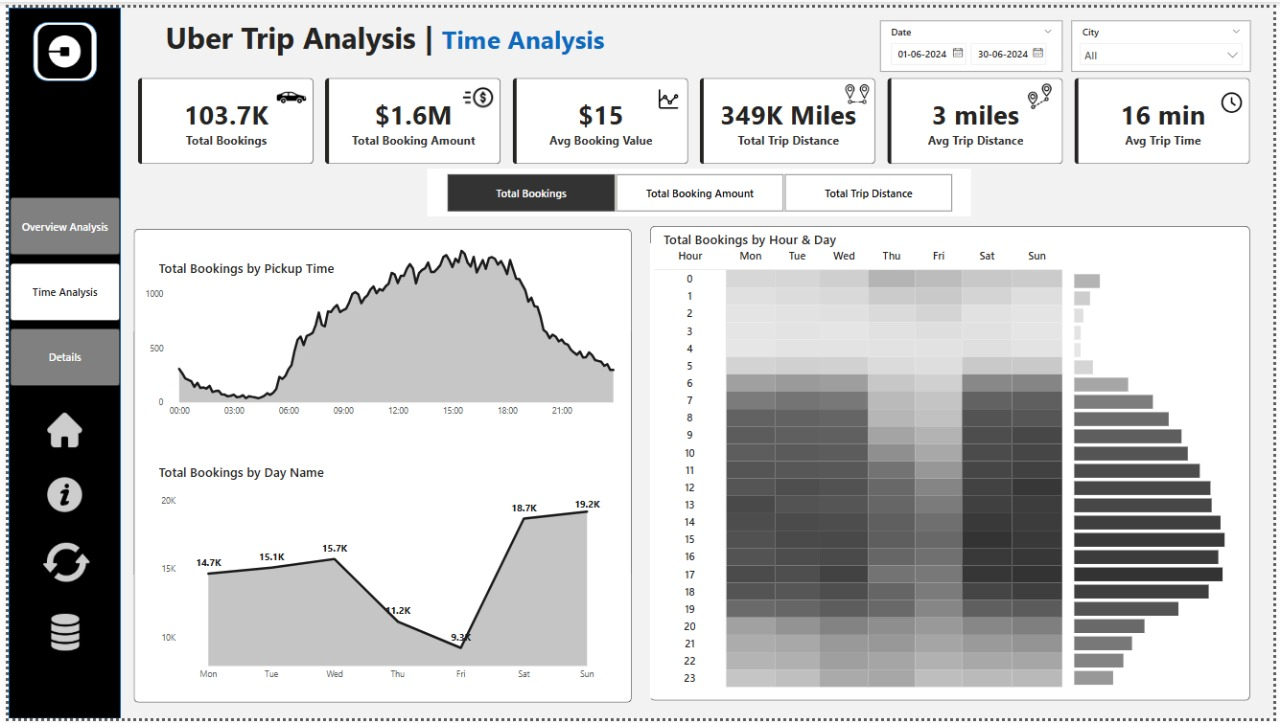

What the dashboard file says about the page in this screenshot:
{"tool":"powerbi","page":{"name":"Time Analysis","canvas":[1600,900],"ordinal":1},"visuals":[{"type":"shape","box":[157.9,279.3,630,600],"z":0},{"type":"shape","box":[0,0,141.7,900.7],"z":1000},{"type":"textbox","box":[139.7,8.1,672,81],"z":2000},{"type":"cardVisual","fields":{"Data":["Trip Details.Total Bookings","Trip Details.Total Booking Amount","Trip Details.Avg Booking Amount","Trip Details.Total Trip Distance","Trip Details.Avg Trip Distance","Trip Details.Avg Trip Time"]},"box":[157.9,83,1418.8,119.4],"z":3000},{"type":"image","box":[568.8,87,48.6,52.6],"z":4000},{"type":"image","box":[1030.2,89.1,87,40.5],"z":5000},{"type":"image","box":[1261,91.1,89.1,42.5],"z":6000},{"type":"image","box":[1522.1,101.2,48.6,36.4],"z":7000},{"type":"image","box":[811.6,97.2,46.6,38.5],"z":8000},{"type":"image","box":[327.9,87,60.7,52.6],"z":9000},{"type":"slicer","fields":{"Values":["Dynamic Measure.Dynamic Measure"]},"box":[530.3,204.4,688.2,60.7],"z":10000},{"type":"slicer","fields":{"Values":["Calender Table.Date"]},"box":[1103.1,16.2,230.7,64.8],"z":11000},{"type":"slicer","fields":{"Values":["Location Table.City"]},"box":[1344,16.2,226.7,64.8],"z":12000},{"type":"areaChart","fields":{"Y":["Trip Details.Total Bookings"],"Category":["Trip Details.Pickup Hour(HH MM SS) (bins)"]},"box":[168,293.5,615.3,234.8],"z":13000},{"type":"cardVisual","fields":{"Data":["Trip Details.Title for by pickup Time"]},"box":[172,293.5,309.7,54.6],"z":14000},{"type":"areaChart","fields":{"Y":["Trip Details.Total Bookings"],"Category":["Calender Table.Day Name"]},"box":[188.2,609.2,580.9,251],"z":15000},{"type":"cardVisual","fields":{"Data":["Trip Details.Title for by Day Name"]},"box":[172,550.5,309.7,54.6],"z":16000},{"type":"shape","box":[811.6,277.3,759,601.1],"z":17000},{"type":"pivotTable","fields":{"Values":["Trip Details.Total Bookings"],"Rows":["Trip Details.Pickup Hour"],"Columns":["Calender Table.Day Name"]},"box":[811.6,297.5,558.6,576.9],"z":18000},{"type":"barChart","fields":{"Y":["Trip Details.Total Bookings"],"Category":["Trip Details.Pickup Hour"]},"box":[1341.9,323.8,202.4,560.7],"z":19000},{"type":"cardVisual","fields":{"Data":["Trip Details.Title for by Hour & Day"]},"box":[811.6,257.1,305.6,56.7],"z":20000},{"type":"pageNavigator","box":[2,240.9,139.7,240.9],"z":21000},{"type":"shape","box":[30.4,18.2,81,74.9],"z":21500},{"type":"image","box":[30.4,18.2,81,72.9],"z":22000},{"type":"image","box":[38.5,508,64.8,54.6],"z":22001},{"type":"image","box":[38.5,589,64.8,54.6],"z":22002},{"type":"image","box":[36.4,667.9,72.9,68.8],"z":22003},{"type":"image","box":[30.4,763.1,81,56.7],"z":22004}]}

Visuals, with their boxes on the page's 1600x900 design canvas (x1, y1, x2, y2). These are canvas units, not pixel positions in the 1280x723 screenshot, which may show the page scaled, cropped or inside an application window:
shape: (left=158, top=279, right=788, bottom=879)
shape: (left=0, top=0, right=142, bottom=901)
textbox: (left=140, top=8, right=812, bottom=89)
cardVisual - Trip Details.Total Bookings x Trip Details.Total Booking Amount: (left=158, top=83, right=1577, bottom=202)
image: (left=569, top=87, right=617, bottom=140)
image: (left=1030, top=89, right=1117, bottom=130)
image: (left=1261, top=91, right=1350, bottom=134)
image: (left=1522, top=101, right=1571, bottom=138)
image: (left=812, top=97, right=858, bottom=136)
image: (left=328, top=87, right=389, bottom=140)
slicer - Dynamic Measure.Dynamic Measure: (left=530, top=204, right=1218, bottom=265)
slicer - Calender Table.Date: (left=1103, top=16, right=1334, bottom=81)
slicer - Location Table.City: (left=1344, top=16, right=1571, bottom=81)
areaChart - Trip Details.Total Bookings x Trip Details.Pickup Hour(HH MM SS) (bins): (left=168, top=294, right=783, bottom=528)
cardVisual - Trip Details.Title for by pickup Time: (left=172, top=294, right=482, bottom=348)
areaChart - Trip Details.Total Bookings x Calender Table.Day Name: (left=188, top=609, right=769, bottom=860)
cardVisual - Trip Details.Title for by Day Name: (left=172, top=550, right=482, bottom=605)
shape: (left=812, top=277, right=1571, bottom=878)
pivotTable - Trip Details.Total Bookings x Trip Details.Pickup Hour: (left=812, top=298, right=1370, bottom=874)
barChart - Trip Details.Total Bookings x Trip Details.Pickup Hour: (left=1342, top=324, right=1544, bottom=884)
cardVisual - Trip Details.Title for by Hour & Day: (left=812, top=257, right=1117, bottom=314)
pageNavigator: (left=2, top=241, right=142, bottom=482)
shape: (left=30, top=18, right=111, bottom=93)
image: (left=30, top=18, right=111, bottom=91)
image: (left=38, top=508, right=103, bottom=563)
image: (left=38, top=589, right=103, bottom=644)
image: (left=36, top=668, right=109, bottom=737)
image: (left=30, top=763, right=111, bottom=820)
